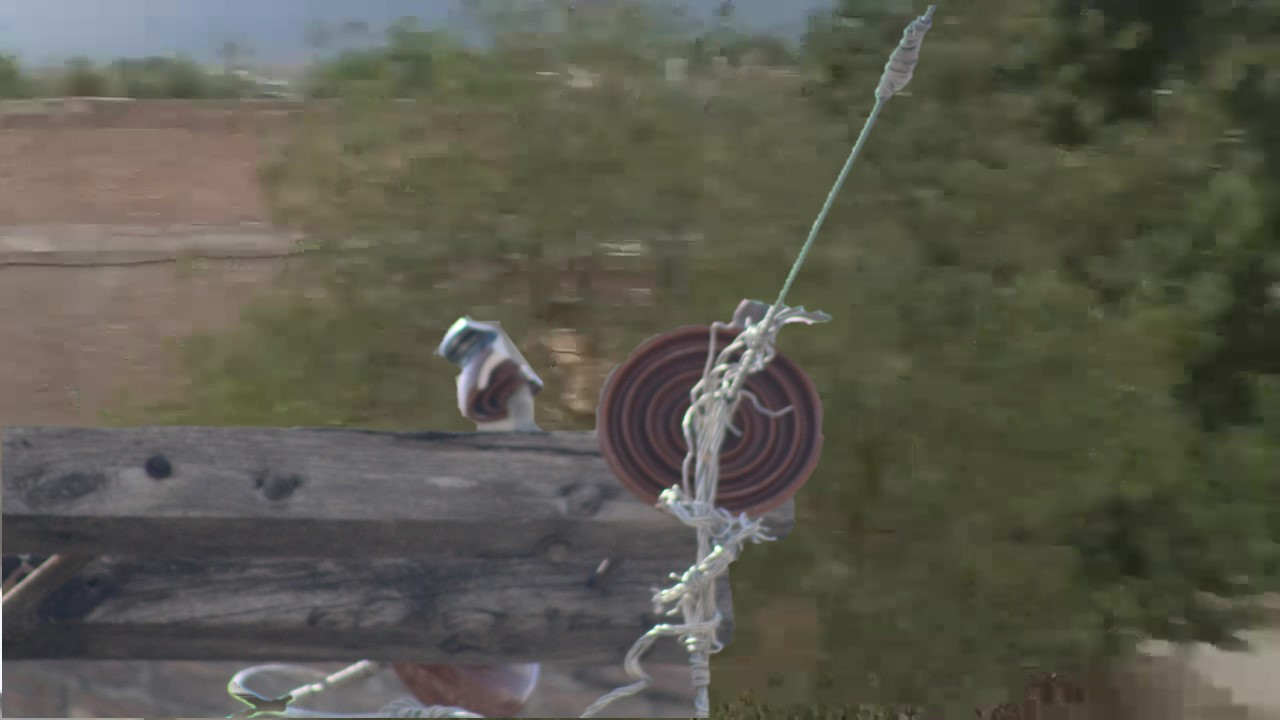defect_pin: (431, 306, 548, 437)
insulator_disc: (593, 318, 833, 531)
